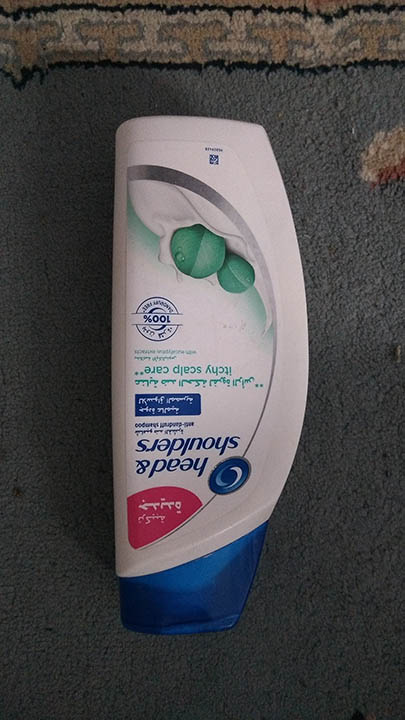shampoo-green 4.5$: (106, 110, 312, 639)
